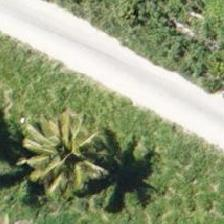coconut_tree: (19, 106, 109, 196)
